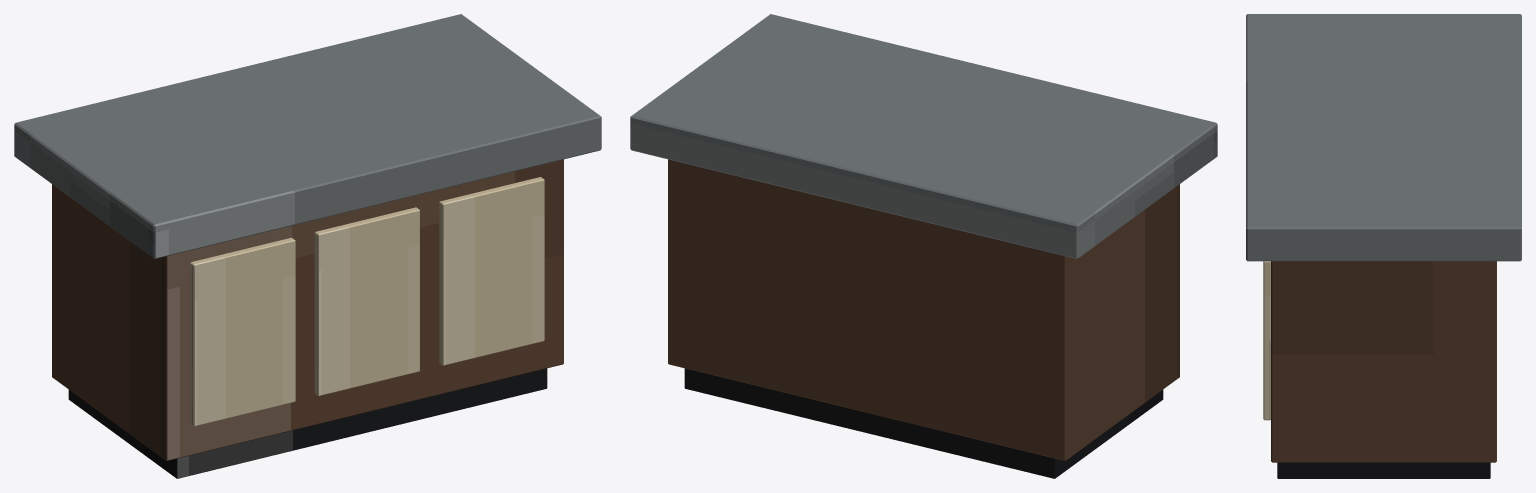
Rendered from normal_kitchen_island.glb.
3 views of the same model, side by side, from view 1: azimuth 30°, elevation 25°; view 2: azimuth 150°, elevation 25°; view 3: azimuth 270°, elevation 25° (orthographic).
Visible parts, largest first — view 1: IslandWorktop, IslandBody, IslandPanel_-0.45, IslandPanel_0.45, IslandPanel_0.0, IslandPlinth; view 2: IslandBody, IslandWorktop, IslandPlinth; view 3: IslandWorktop, IslandBody, IslandPlinth, IslandPanel_0.45.
Part boxes in pixels (x1,y1,x2,y2): IslandWorktop: (14, 14, 601, 258); IslandBody: (52, 159, 563, 460); IslandPanel_-0.45: (190, 237, 295, 426); IslandPanel_0.45: (439, 177, 544, 365); IslandPanel_0.0: (314, 207, 419, 396); IslandPlinth: (68, 368, 547, 478); IslandBody: (668, 159, 1179, 460); IslandWorktop: (630, 14, 1217, 258); IslandPlinth: (684, 368, 1163, 478); IslandWorktop: (1246, 14, 1521, 261); IslandBody: (1271, 261, 1496, 462); IslandPlinth: (1277, 462, 1490, 478); IslandPanel_0.45: (1263, 261, 1270, 420).
Size of the model in its own units: 1.62 by 0.95 by 0.88.
1 material, 1 textured.
